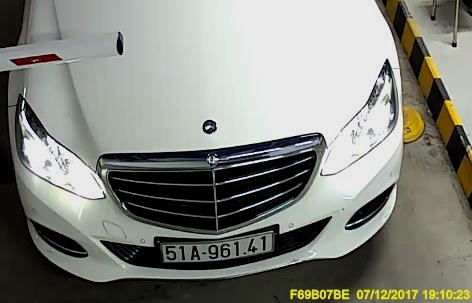plate: (159, 236, 277, 265)
